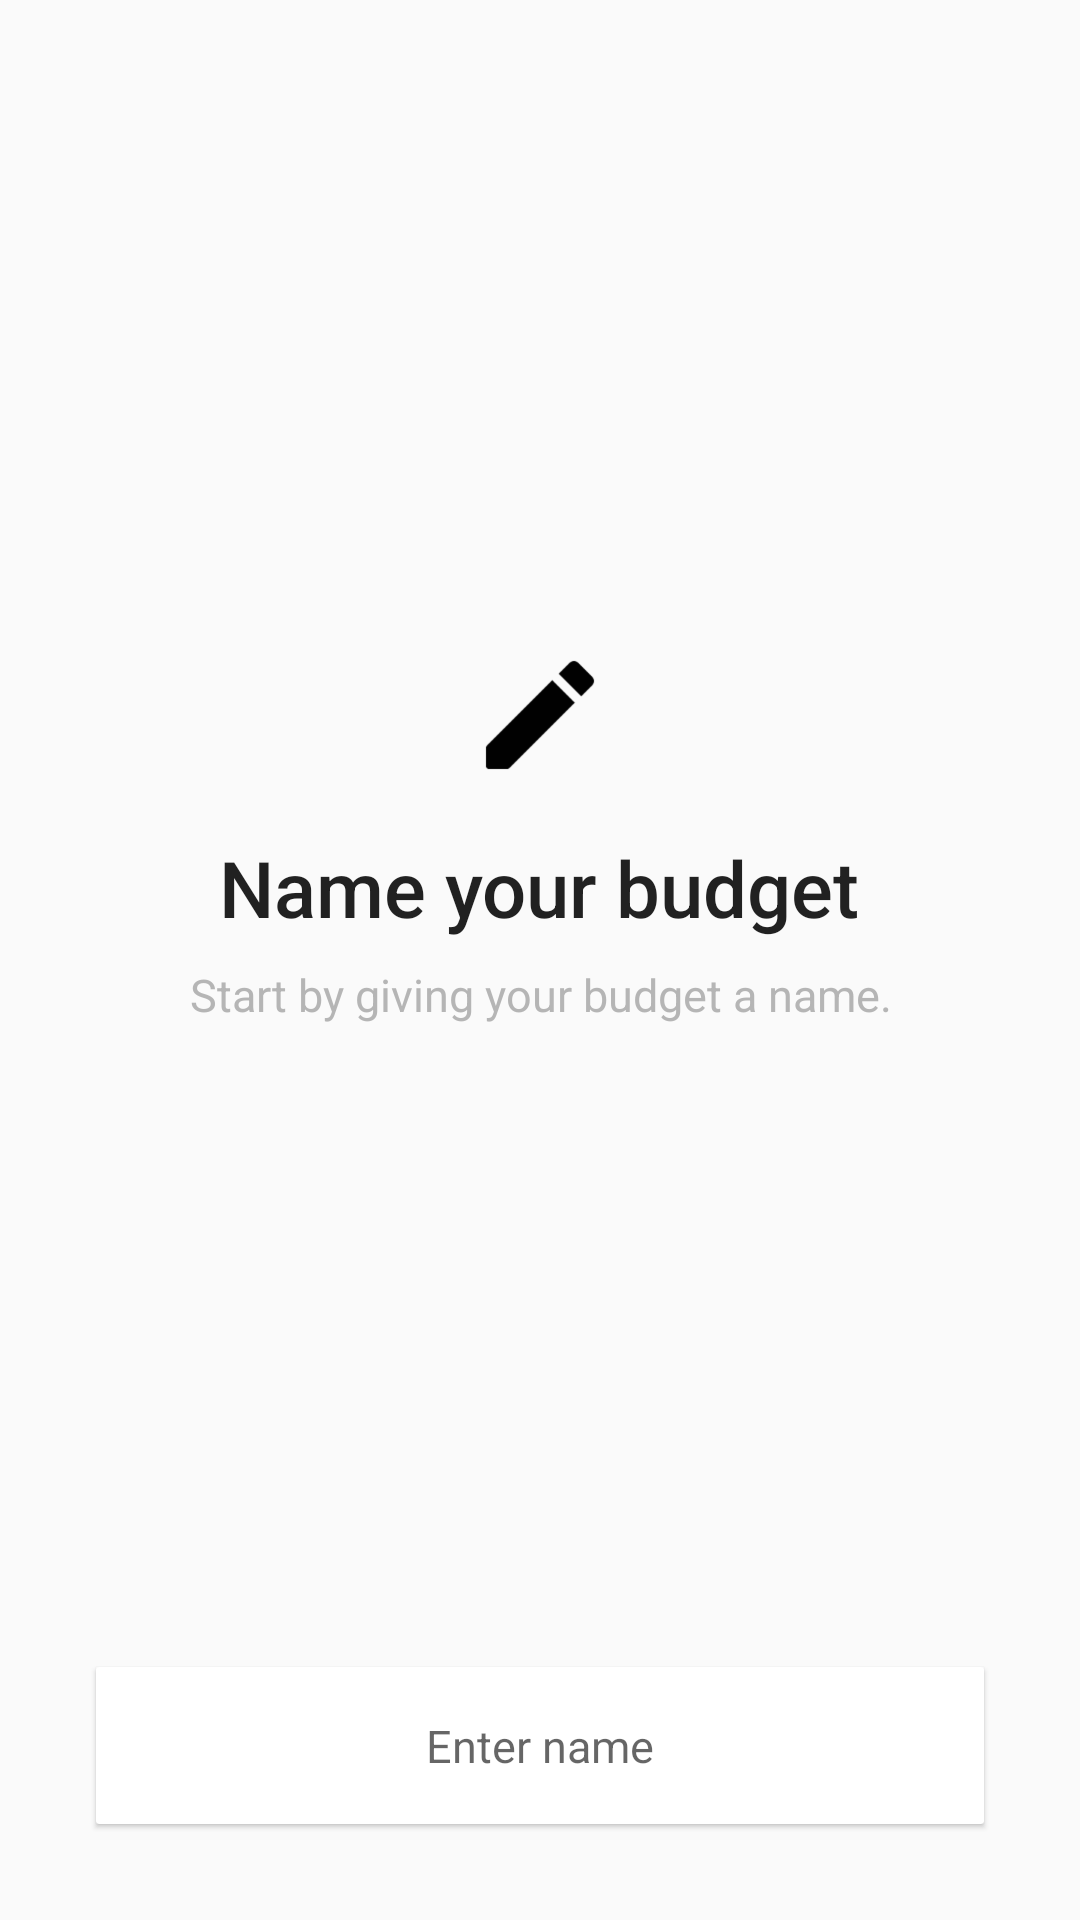

Icons on this 1080 x 1920 Android screen, each with the point to tap as [x,y]:
create: [540,715]
